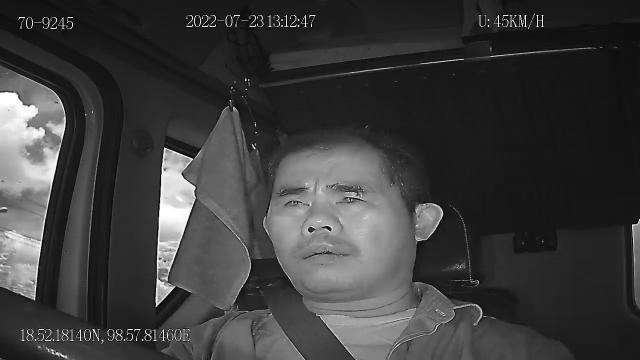SafeDriving: (328, 185, 375, 212), (276, 188, 314, 213)
Seatbelt: (258, 284, 358, 360)
